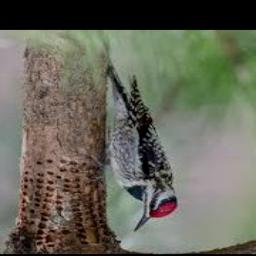Woodpecker: (104, 62, 176, 233)
